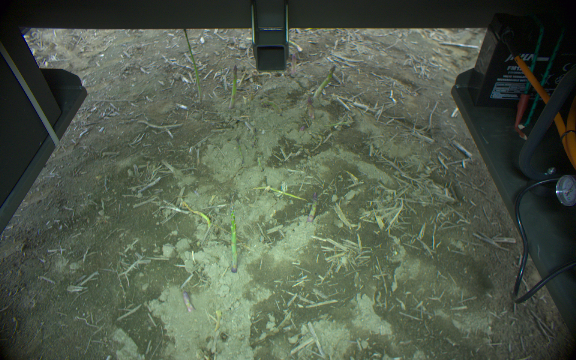aspa: (182, 29, 204, 101), (225, 192, 243, 273), (313, 65, 336, 101), (228, 64, 241, 111), (307, 189, 319, 222), (180, 289, 195, 313), (288, 51, 299, 76)
